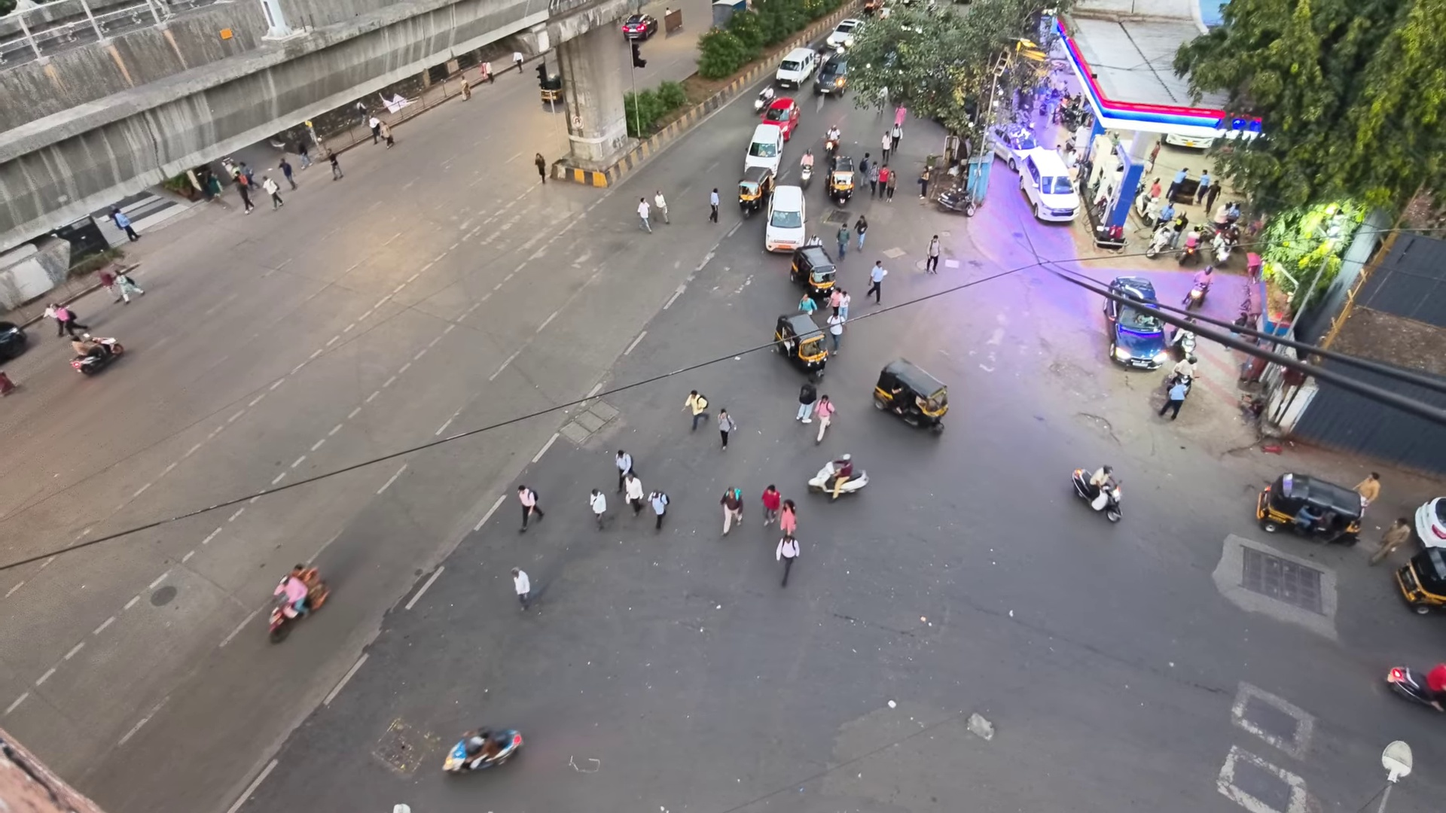walking: (1369, 518, 1412, 565), (517, 485, 544, 531), (776, 534, 798, 586), (1158, 381, 1188, 419), (52, 306, 88, 336), (720, 489, 743, 534), (1354, 471, 1380, 510), (114, 270, 144, 303), (111, 208, 139, 241), (866, 260, 887, 304), (624, 473, 645, 516), (816, 394, 834, 443), (685, 390, 707, 430), (761, 484, 781, 525), (796, 382, 816, 422), (649, 491, 670, 529), (717, 408, 736, 448), (615, 450, 633, 492), (511, 568, 529, 610), (262, 176, 283, 210), (1165, 168, 1187, 200), (1195, 169, 1212, 209), (827, 314, 844, 354), (590, 489, 606, 530), (99, 270, 120, 301), (278, 156, 297, 190), (779, 499, 796, 535), (653, 190, 670, 224), (236, 181, 254, 213), (925, 235, 940, 273), (836, 222, 850, 259), (637, 198, 651, 233), (854, 215, 868, 249), (1204, 184, 1221, 212), (878, 165, 892, 199), (239, 162, 257, 188), (865, 166, 880, 197), (296, 140, 312, 169), (328, 151, 343, 179), (837, 289, 850, 321), (534, 152, 547, 184), (798, 293, 817, 314), (828, 285, 841, 315), (917, 167, 929, 199), (380, 122, 394, 148), (881, 132, 892, 165), (886, 169, 897, 202), (709, 187, 719, 222), (368, 115, 380, 144), (480, 61, 494, 83), (355, 100, 368, 123), (891, 123, 902, 148), (461, 75, 471, 100), (513, 51, 523, 72)
